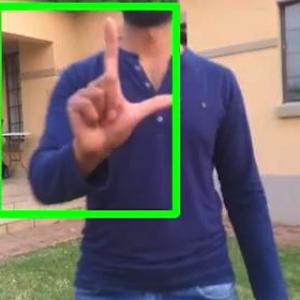land_hand: (58, 10, 179, 165)
